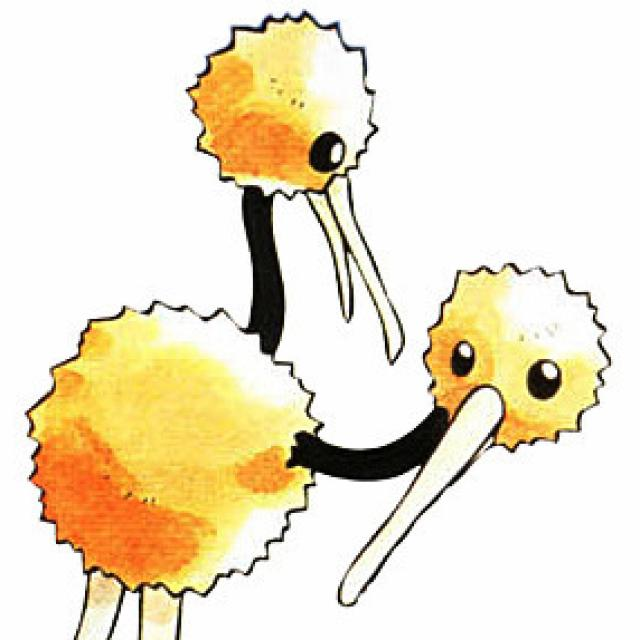Doduo: (28, 12, 617, 632)
